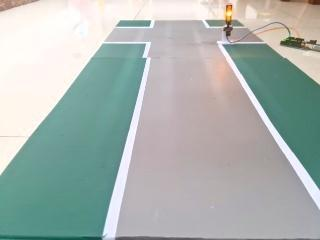yellow: (218, 1, 241, 29)
